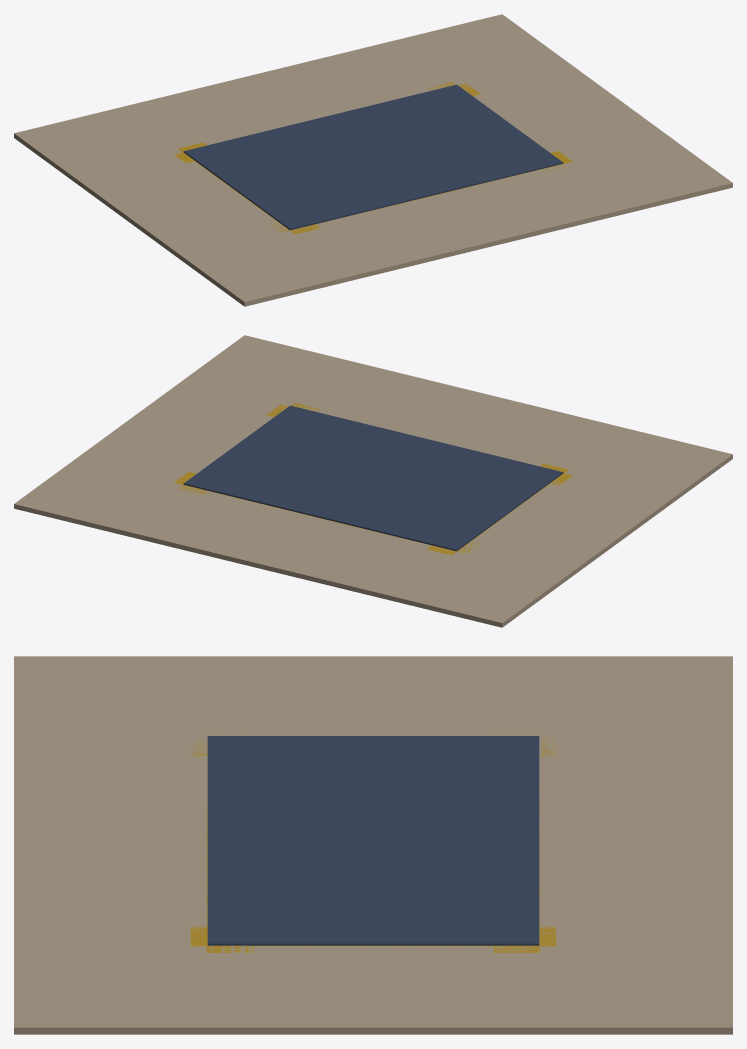
The model's file is stage_03_foundation_reinforcement.glb.
The picture shows the model from 3 angles, top to bottom: view 1: azimuth 30°, elevation 25°; view 2: azimuth 150°, elevation 25°; view 3: azimuth 270°, elevation 25°; orthographic projection. The views are drawn at different scales.
Parts seen in each view (by area): view 1: world; view 2: world; view 3: world.
Boxes of the visible parts, x1,y1,x2,y2 form: world: [14, 14, 732, 306]; world: [14, 335, 732, 627]; world: [14, 656, 732, 1034].
Size of the model in its own units: 11 by 0.83 by 9.
